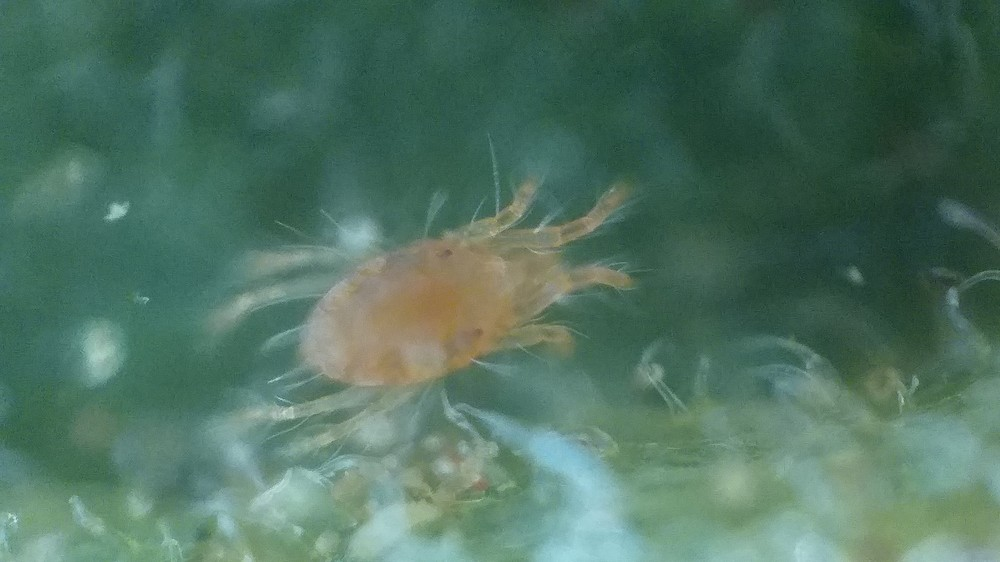Aracnido Rojo: (219, 154, 673, 499)
